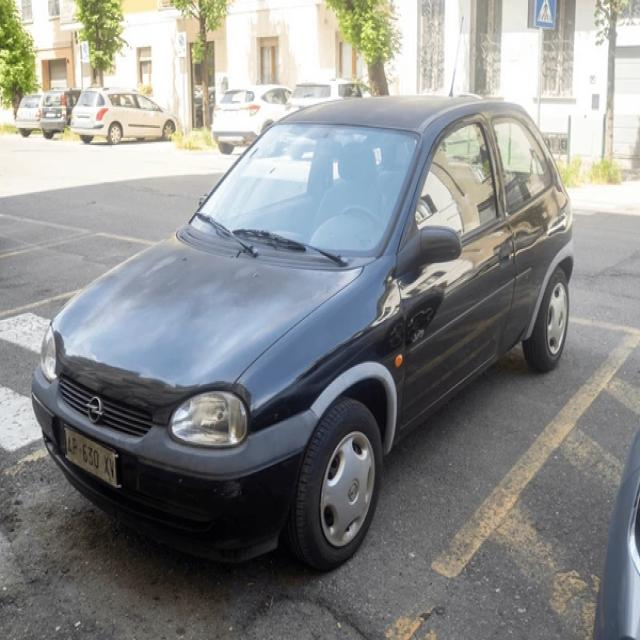opel: (86, 395, 103, 430)
